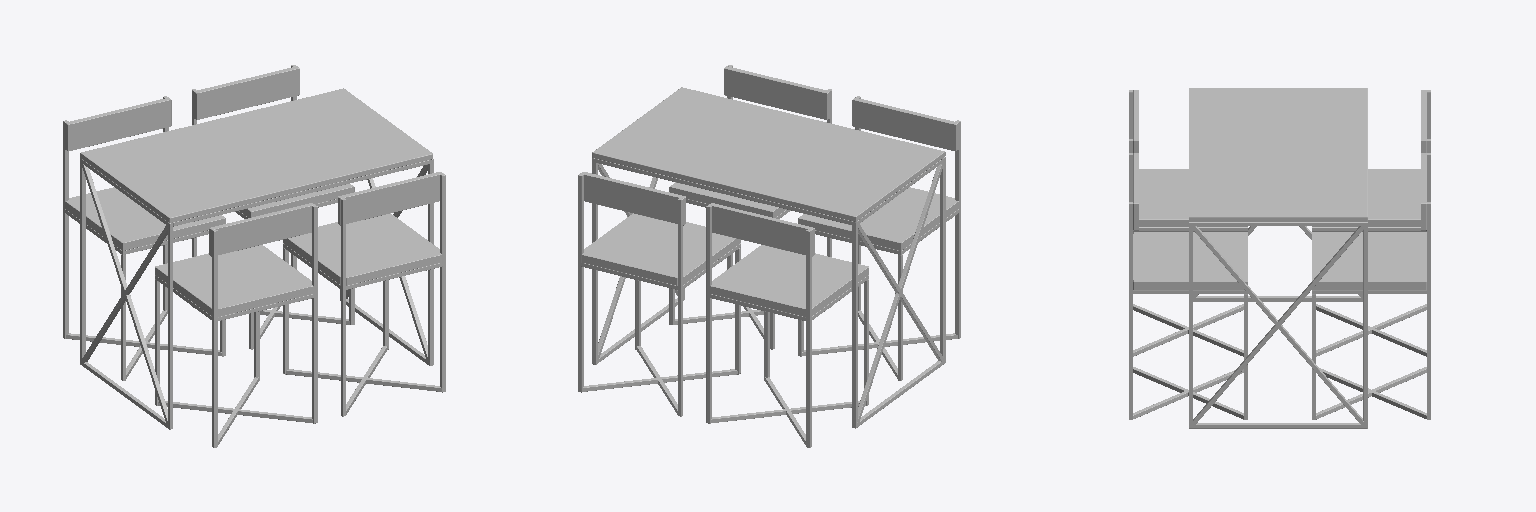
File: table0.obj
3 renders of one model, left to right at view 1: azimuth 30°, elevation 25°; view 2: azimuth 150°, elevation 25°; view 3: azimuth 270°, elevation 25°, orthographic.
Parts seen in each view (by area): view 1: Box075, Box076, Line124, Line123, Box074, Box072, Line125, Box078, Box077, Box079, Box073, Box071 (+2 smaller); view 2: Box075, Box076, Line125, Line126, Box078, Box080, Line124, Box074, Box073, Box071, Box077, Box079 (+2 smaller); view 3: Box075, Box076, Line123, Line126, Box080, Box072, Line125, Line124, Box074, Box078.
Part boxes in pixels (bbox=[...]): Box075: bbox=[80, 88, 432, 222]; Box076: bbox=[80, 158, 433, 429]; Line124: bbox=[155, 245, 313, 316]; Line123: bbox=[283, 213, 441, 285]; Box074: bbox=[155, 205, 317, 447]; Box072: bbox=[283, 174, 445, 416]; Line125: bbox=[65, 187, 225, 250]; Box078: bbox=[63, 96, 225, 380]; Box077: bbox=[65, 98, 171, 151]; Box079: bbox=[194, 66, 299, 119]; Box073: bbox=[209, 203, 314, 256]; Box071: bbox=[338, 172, 443, 225]; Box075: bbox=[592, 87, 945, 221]; Box076: bbox=[592, 157, 945, 428]; Line125: bbox=[710, 245, 868, 316]; Line126: bbox=[582, 213, 740, 285]; Box078: bbox=[706, 205, 868, 447]; Box080: bbox=[578, 174, 740, 416]; Line124: bbox=[798, 187, 958, 250]; Box074: bbox=[798, 96, 960, 380]; Box073: bbox=[852, 98, 958, 151]; Box071: bbox=[724, 66, 829, 119]; Box077: bbox=[709, 203, 814, 256]; Box079: bbox=[580, 172, 685, 225]; Box075: bbox=[1189, 88, 1367, 221]; Box076: bbox=[1189, 222, 1367, 428]; Line123: bbox=[1133, 232, 1247, 289]; Line126: bbox=[1312, 232, 1426, 289]; Box080: bbox=[1312, 153, 1430, 419]; Box072: bbox=[1129, 153, 1247, 419]; Line125: bbox=[1312, 169, 1420, 226]; Line124: bbox=[1139, 169, 1247, 226]; Box074: bbox=[1129, 90, 1247, 356]; Box078: bbox=[1312, 90, 1430, 356].
Size of the model in its own units: 1020 by 800 by 1012.